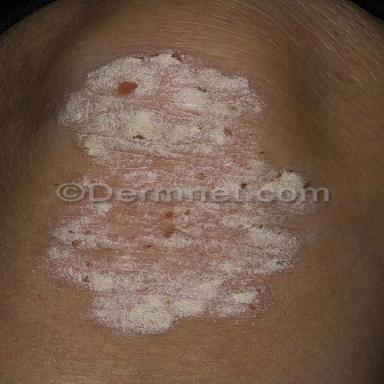Psoriasis: (38, 204, 318, 338), (56, 51, 310, 187)
